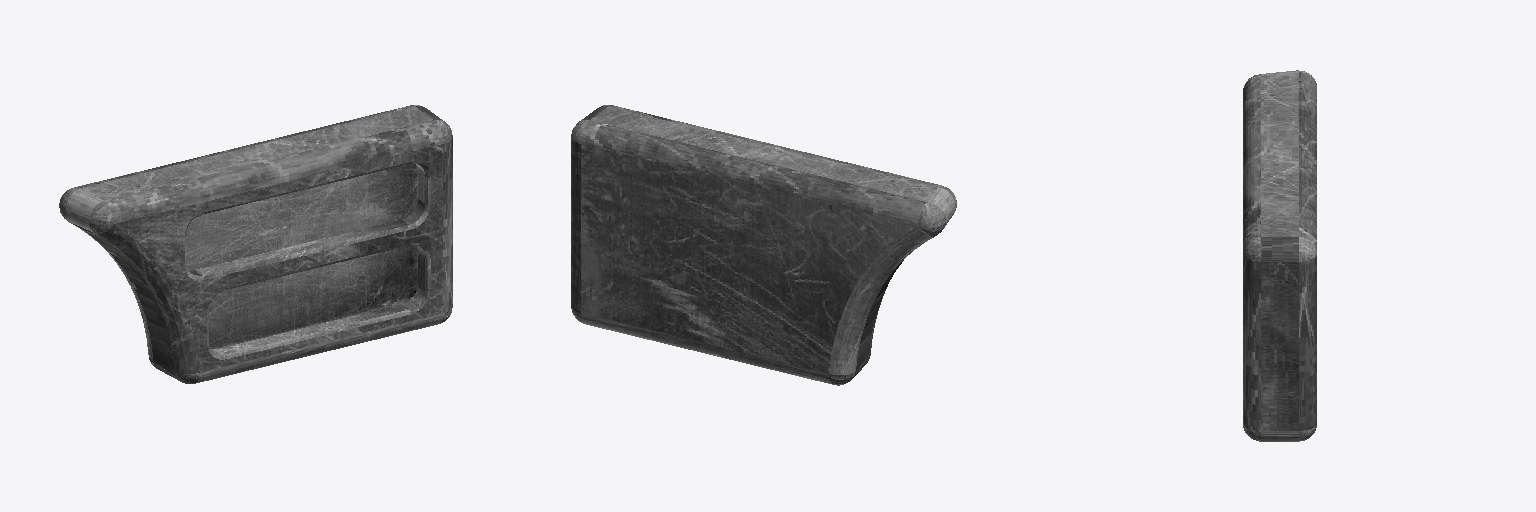
The picture shows the model from 3 angles: view 1: azimuth 30°, elevation 25°; view 2: azimuth 150°, elevation 25°; view 3: azimuth 270°, elevation 25°; orthographic projection.
Visible parts, largest first — view 1: infoPanel_TR; view 2: infoPanel_TR; view 3: infoPanel_TR.
Part boxes in pixels (bbox=[...]): infoPanel_TR: bbox=[59, 105, 452, 383]; infoPanel_TR: bbox=[571, 105, 956, 385]; infoPanel_TR: bbox=[1243, 70, 1316, 441].
Bounding box in the file's own units: 1.14 × 0.6 × 0.2.
Materials: 1 (1 with a texture image).